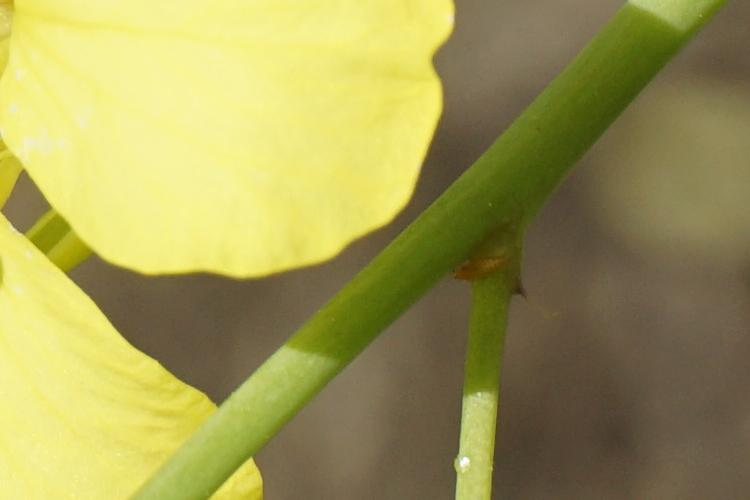yellow: (6, 10, 442, 271), (5, 234, 273, 495)
